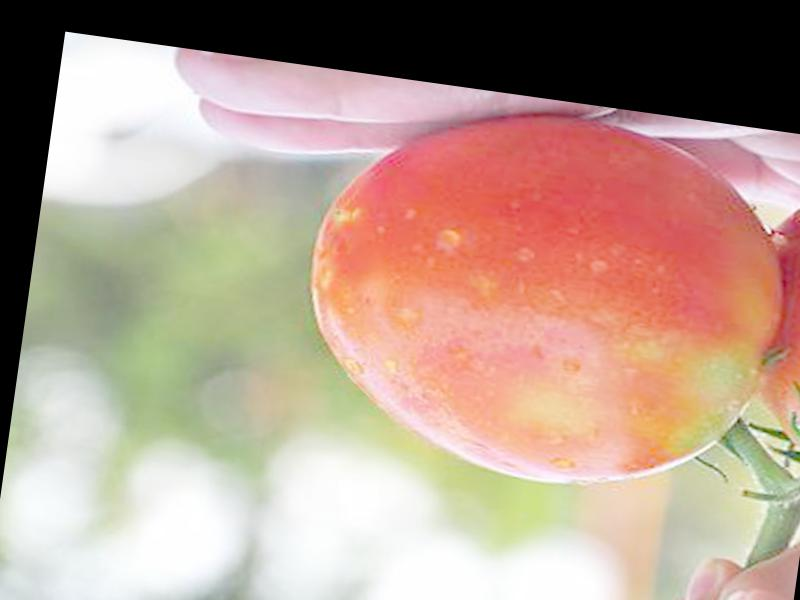Tomato: (288, 88, 799, 510)
